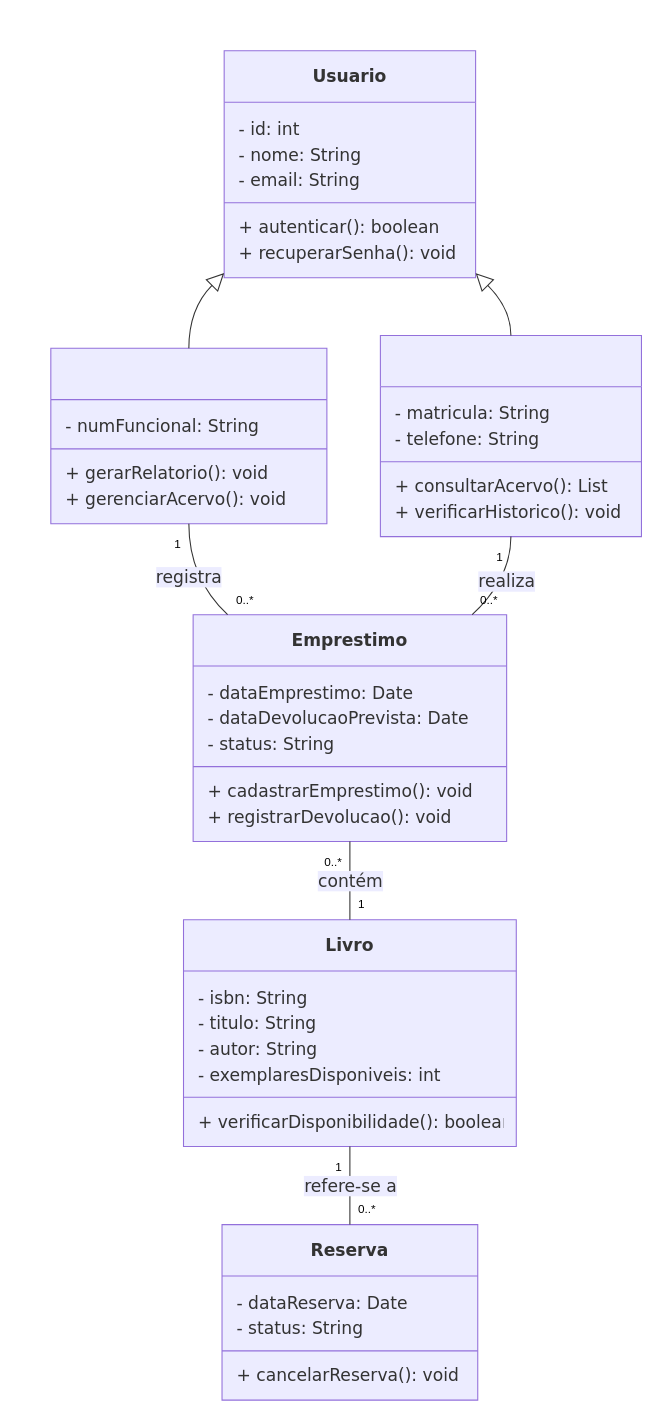
Some shapes in this 660 by 1419 pixel diagram are drawn without their labels. The shapes that lost their labels are listed below. From the top down, each one's box as (x1, y1, x2, y2) in pixels, then its label:
(50, 347, 327, 524): Bibliotecario
(379, 334, 641, 537): Leitor
